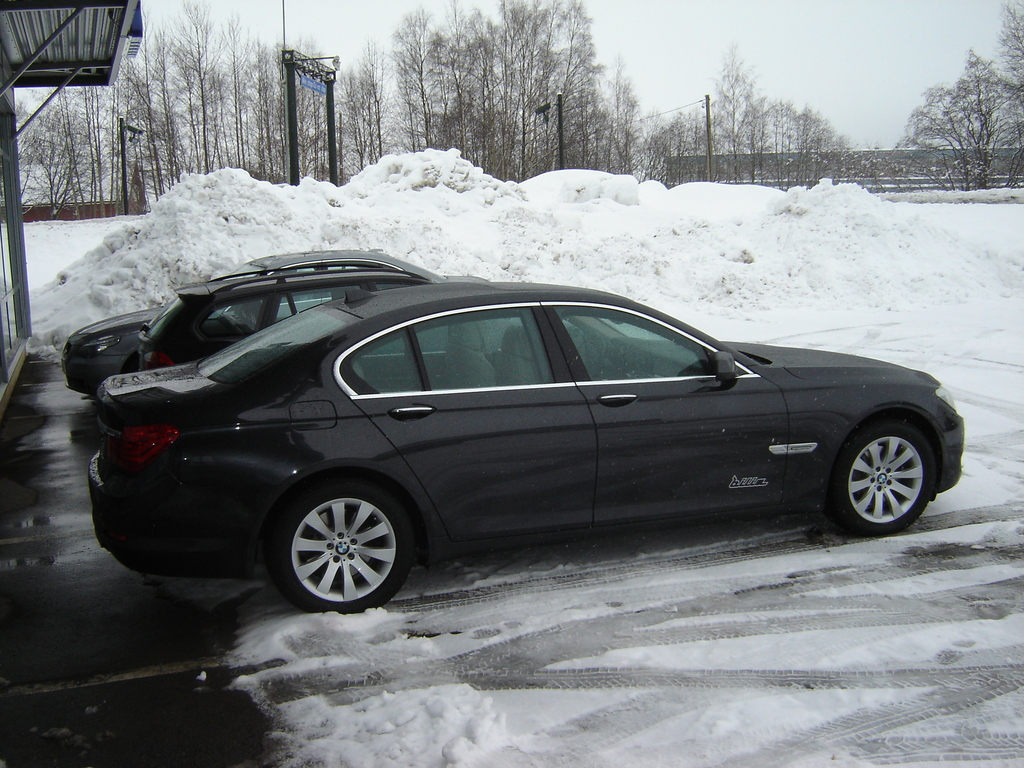mobil: (81, 266, 969, 584)
